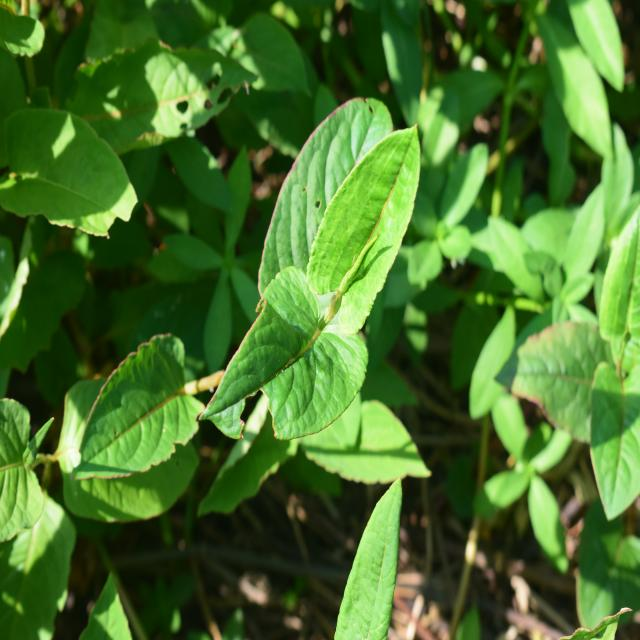Chinese_knotweed: (223, 89, 432, 444)
